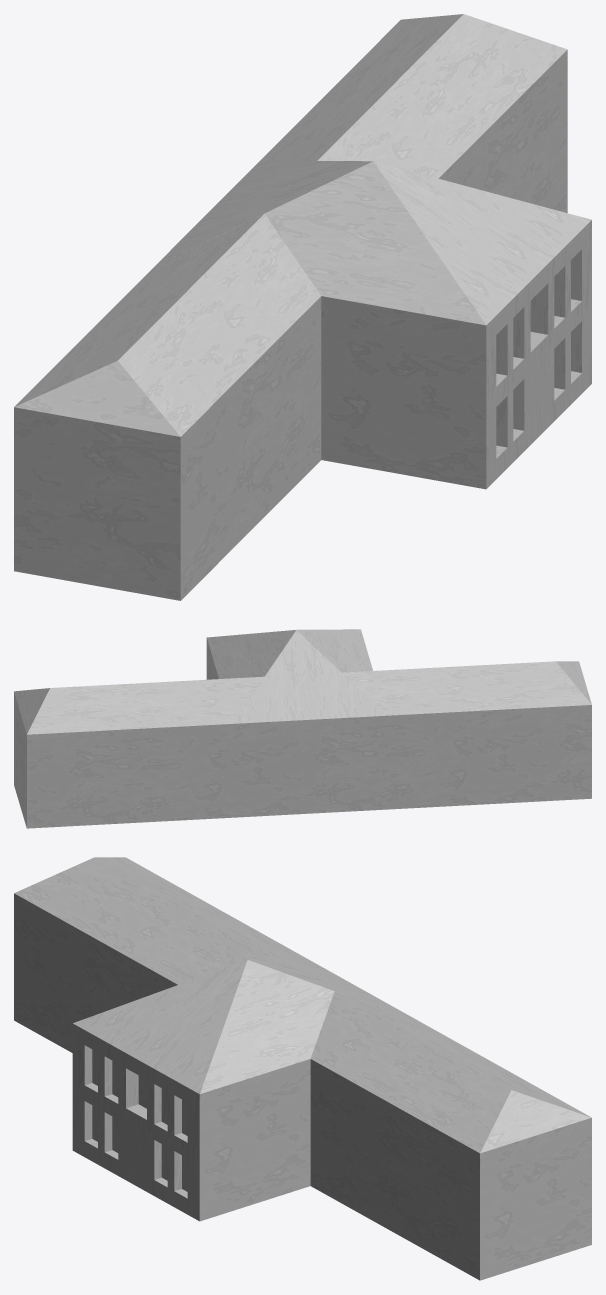
Rendered from Conti.gltf.
The picture shows the model from 3 angles, top to bottom: view 1: azimuth 30°, elevation 25°; view 2: azimuth 150°, elevation 25°; view 3: azimuth 270°, elevation 25°; orthographic projection. The views are drawn at different scales.
Parts seen in each view (by area): view 1: Conti; view 2: Conti; view 3: Conti.
Boxes of the visible parts, x1,y1,x2,y2 form: Conti: (14, 14, 591, 600); Conti: (14, 629, 591, 828); Conti: (14, 857, 591, 1280).
Size of the model in its own units: 2.72 by 0.8175 by 2.25.
1 material, 1 textured.
